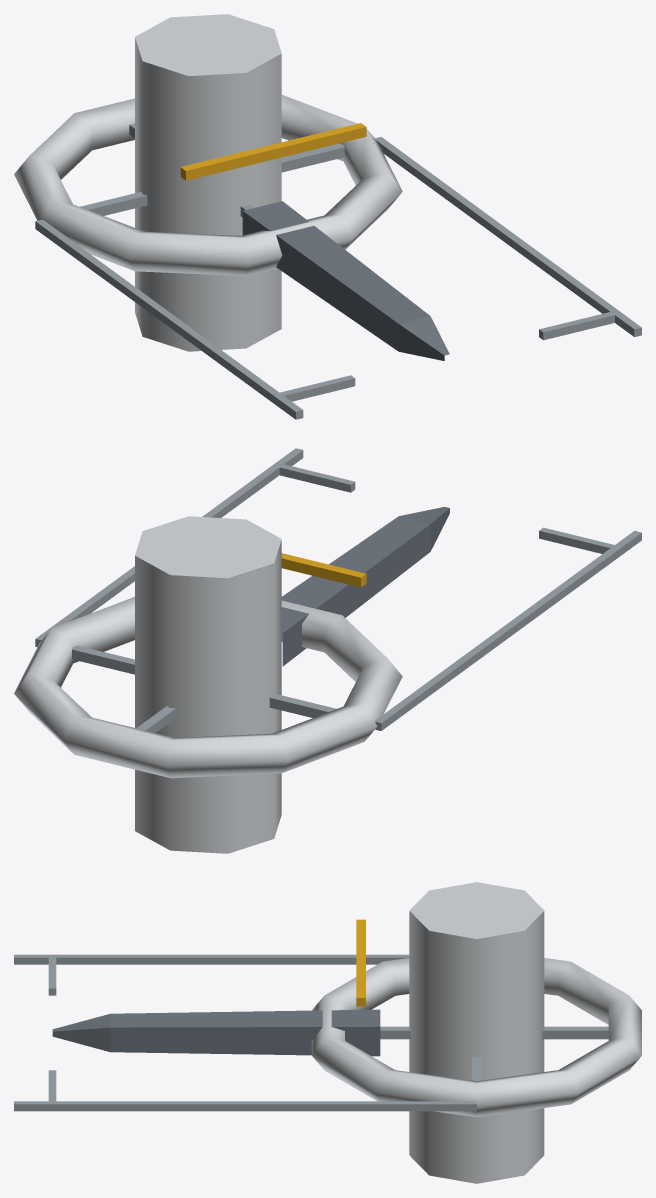
File: space_orbital_shipyard_t1_lod1.glb
The picture shows the model from 3 angles, top to bottom: view 1: azimuth 30°, elevation 25°; view 2: azimuth 150°, elevation 25°; view 3: azimuth 270°, elevation 25°; orthographic projection. The views are drawn at different scales.
Parts seen in each view (by area): view 1: body, ring, dock_arm_0, dock_arm_1, crane_0; view 2: body, ring, dock_arm_0, dock_arm_1, crane_0; view 3: body, ring, dock_arm_1, dock_arm_0, crane_0.
Boxes of the visible parts, left/top/right/bottom form: body: left=135, top=14, right=449, bottom=360; ring: left=14, top=95, right=402, bottom=276; dock_arm_0: left=35, top=219, right=355, bottom=419; dock_arm_1: left=375, top=137, right=641, bottom=340; crane_0: left=180, top=123, right=366, bottom=180; body: left=135, top=506, right=449, bottom=853; ring: left=14, top=597, right=402, bottom=778; dock_arm_0: left=375, top=527, right=641, bottom=730; dock_arm_1: left=35, top=448, right=355, bottom=646; crane_0: left=281, top=553, right=366, bottom=587; body: left=52, top=882, right=544, bottom=1183; ring: left=311, top=958, right=641, bottom=1117; dock_arm_1: left=14, top=1070, right=476, bottom=1111; dock_arm_0: left=14, top=954, right=409, bottom=995; crane_0: left=356, top=919, right=365, bottom=1006.
Size of the model in its own units: 18.4 by 14 by 32.56.
